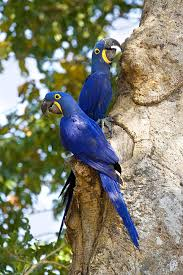guacamaya: (40, 90, 147, 248), (78, 38, 127, 94)
